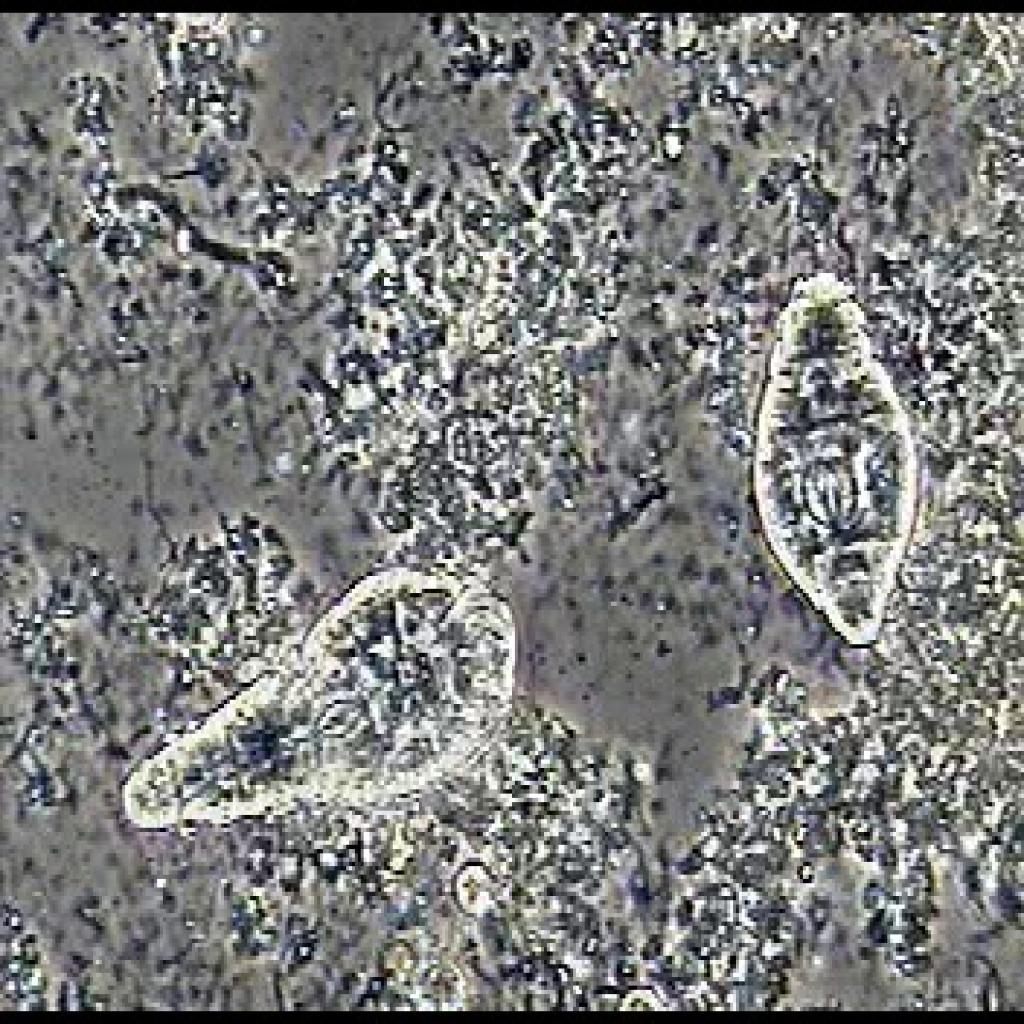Rotatoria: (110, 546, 526, 845), (746, 248, 932, 696)
